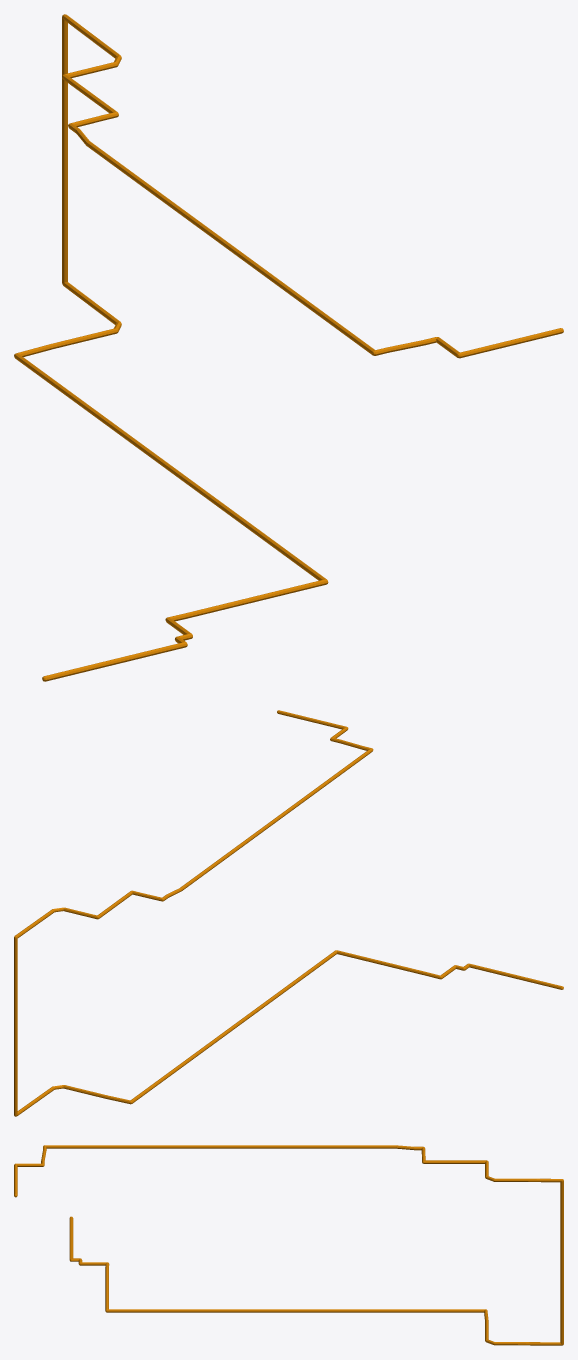
3 views of the same model, one above another, from view 1: azimuth 30°, elevation 25°; view 2: azimuth 150°, elevation 25°; view 3: azimuth 270°, elevation 25° (orthographic). The views are drawn at different scales.
Size of the model in its own units: 1869 by 1020 by 3051.
